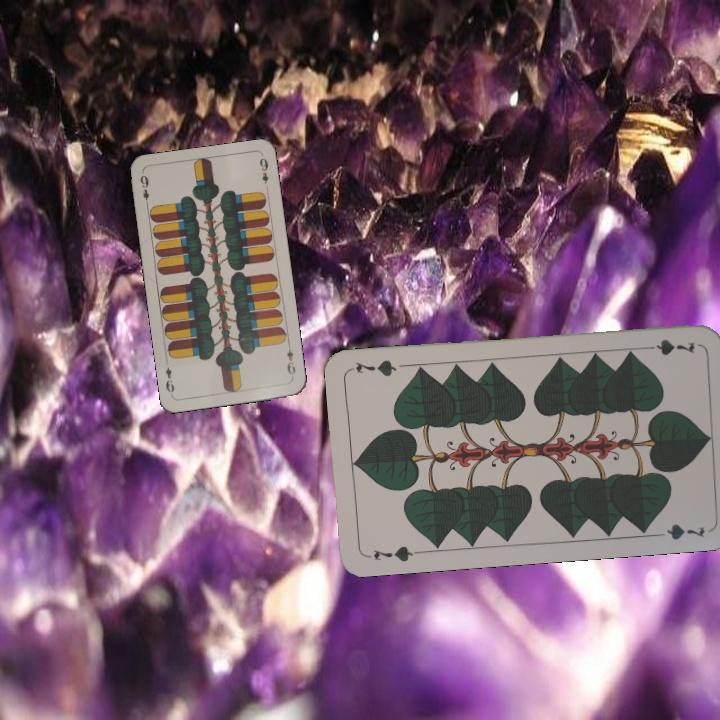E9: (136, 171, 152, 210), (283, 340, 298, 381)
G7: (638, 335, 698, 358), (370, 542, 422, 565)
